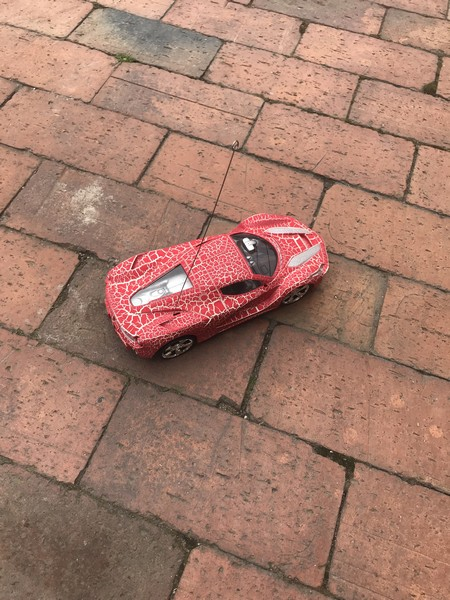RC: (103, 212, 332, 366)
